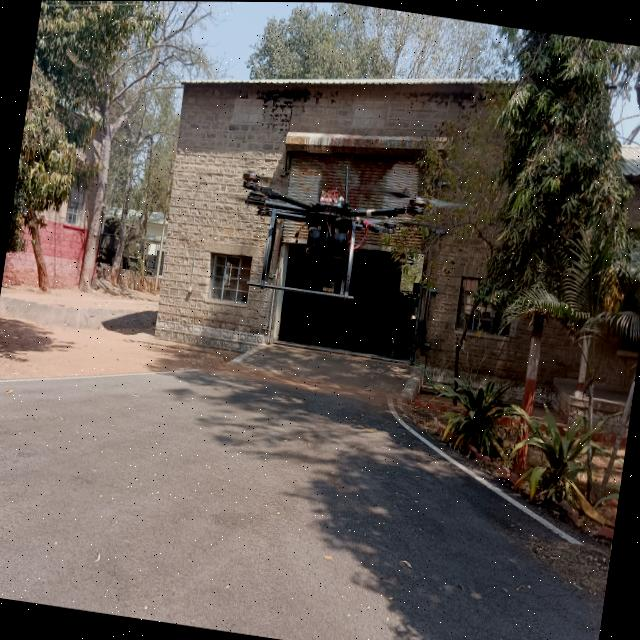drone: (208, 119, 482, 349)
